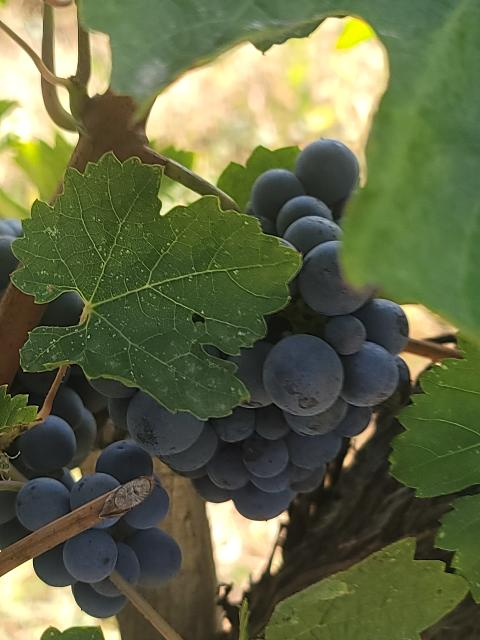grapes: (126, 139, 409, 520)
